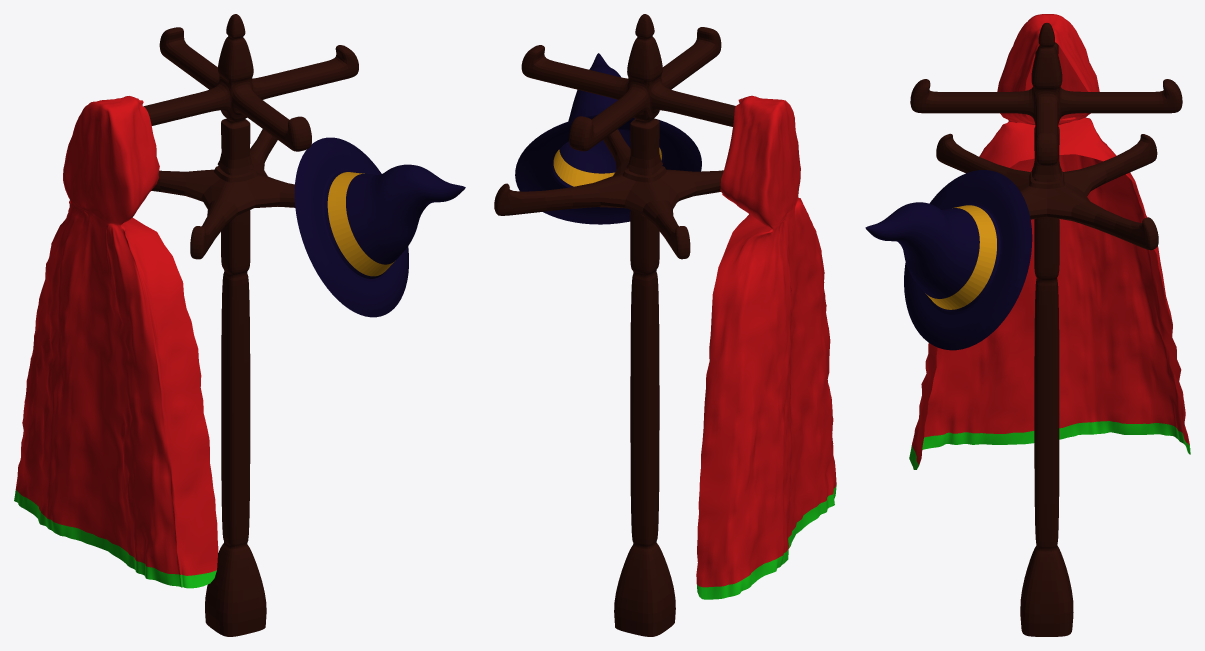
The model's file is CLOTHES HANGER.fbx.
The picture shows the model from 3 angles, left to right: view 1: azimuth 30°, elevation 25°; view 2: azimuth 150°, elevation 25°; view 3: azimuth 270°, elevation 25°; orthographic projection.
Parts seen in each view (by area): view 1: Plane (×2), Cube, Circle (×2); view 2: Plane (×2), Cube, Circle (×2); view 3: Plane (×2), Cube, Circle (×2).
Part boxes in pixels (bbox=[...]): Plane (×2): bbox=[14, 96, 218, 588]; Cube: bbox=[143, 14, 358, 636]; Circle (×2): bbox=[294, 137, 465, 317]; Plane (×2): bbox=[696, 95, 836, 599]; Cube: bbox=[494, 14, 735, 636]; Circle (×2): bbox=[515, 53, 701, 224]; Plane (×2): bbox=[909, 14, 1190, 469]; Cube: bbox=[910, 23, 1182, 636]; Circle (×2): bbox=[865, 170, 1032, 350].
Bounding box in the file's own units: 1025 × 1925 × 942.
